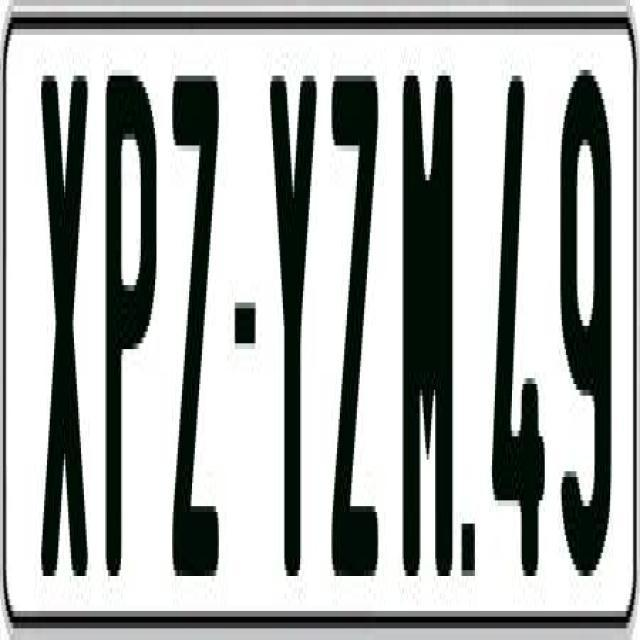4: (489, 76, 542, 594)
9: (558, 52, 614, 558)
M: (401, 75, 455, 606)
P: (104, 58, 161, 576)
X: (41, 58, 91, 570)
Y: (270, 70, 322, 576)
Z: (332, 58, 386, 559), (170, 76, 218, 582)
